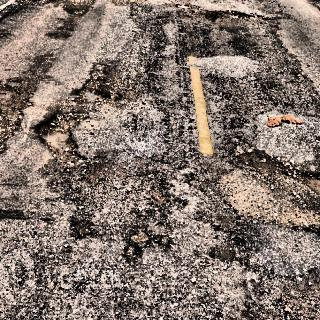pothole: (45, 156, 179, 256), (29, 56, 123, 162), (214, 142, 320, 229)
